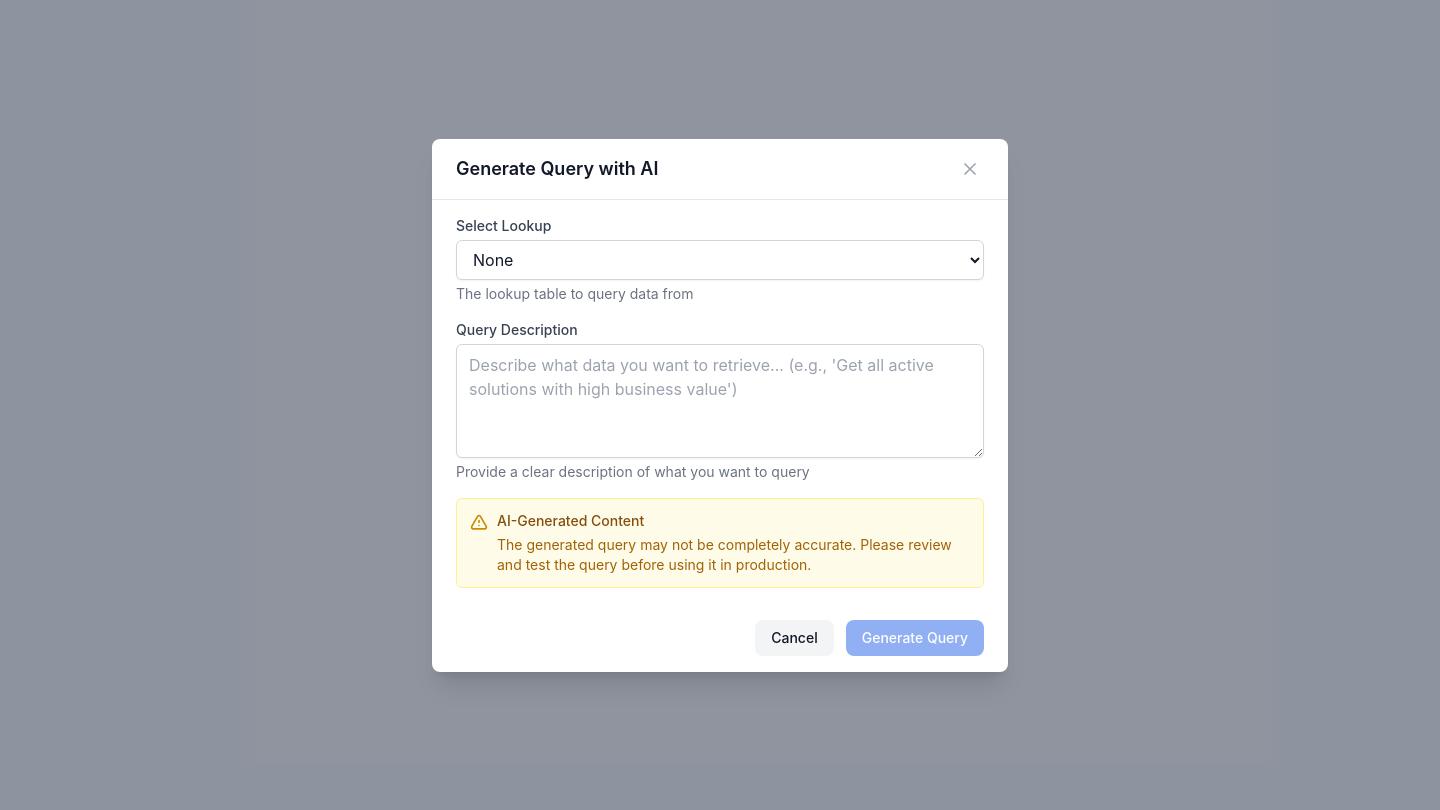
Scenario: GenerateQueryModal › Button States › disables generate button when "None" lookup is selected
Expected: the dropdown labelled "Select Lookup" shows "None", [456,240,984,280]
Replace the text in the text box labelled "Query Description" with "Test": (720, 400) [456,344,984,458]
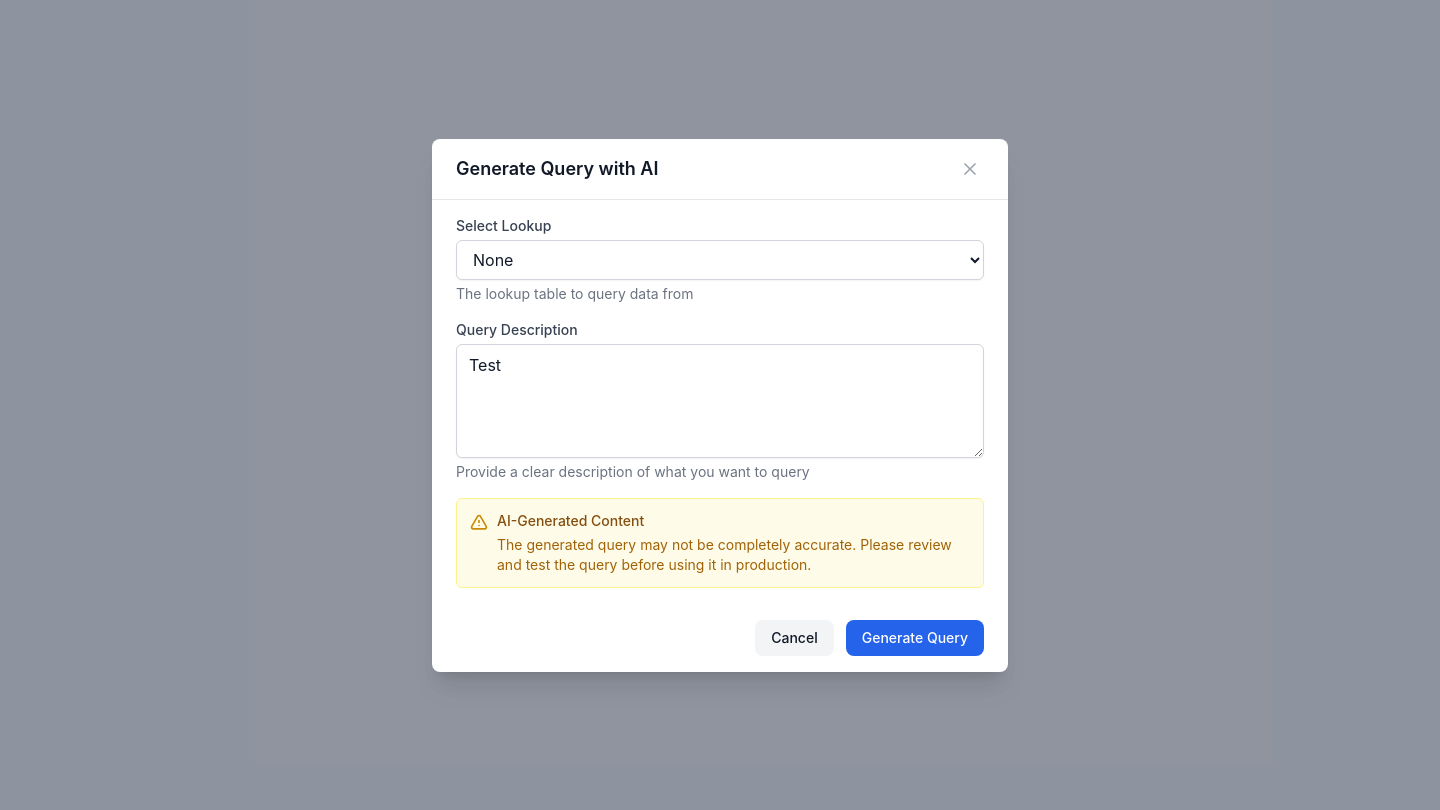
Expected: the button "Generate Query" is enabled, [846,620,984,656]
